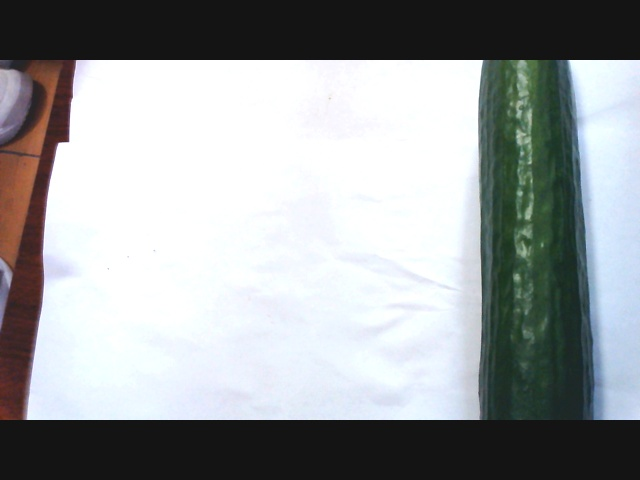cucumber: (455, 62, 600, 419)
